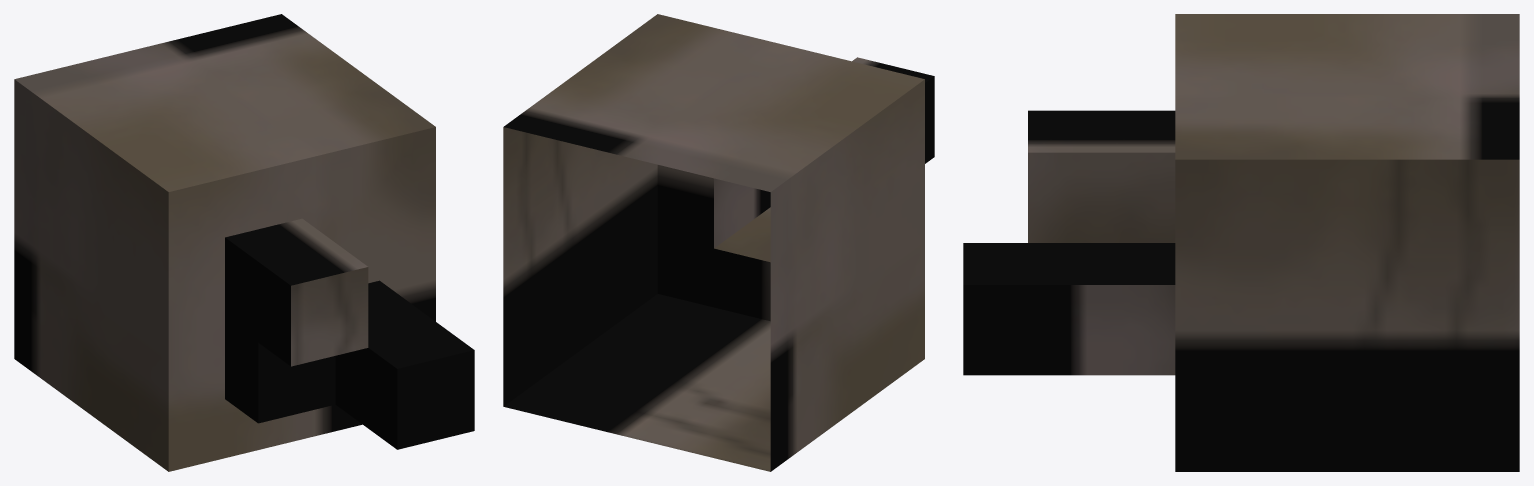
Rendered from Wall_WithLittleBlocks.obj.
3 views of the same model, side by side, from view 1: azimuth 30°, elevation 25°; view 2: azimuth 150°, elevation 25°; view 3: azimuth 270°, elevation 25° (orthographic). The views are drawn at different scales.
Visible parts, largest first — view 1: Cube; view 2: Cube; view 3: Cube.
Part boxes in pixels (bbox=[...]): Cube: bbox=[14, 14, 474, 471]; Cube: bbox=[503, 14, 934, 471]; Cube: bbox=[963, 14, 1519, 471].
Bounding box in the file's own units: 1 × 1 × 1.62.
